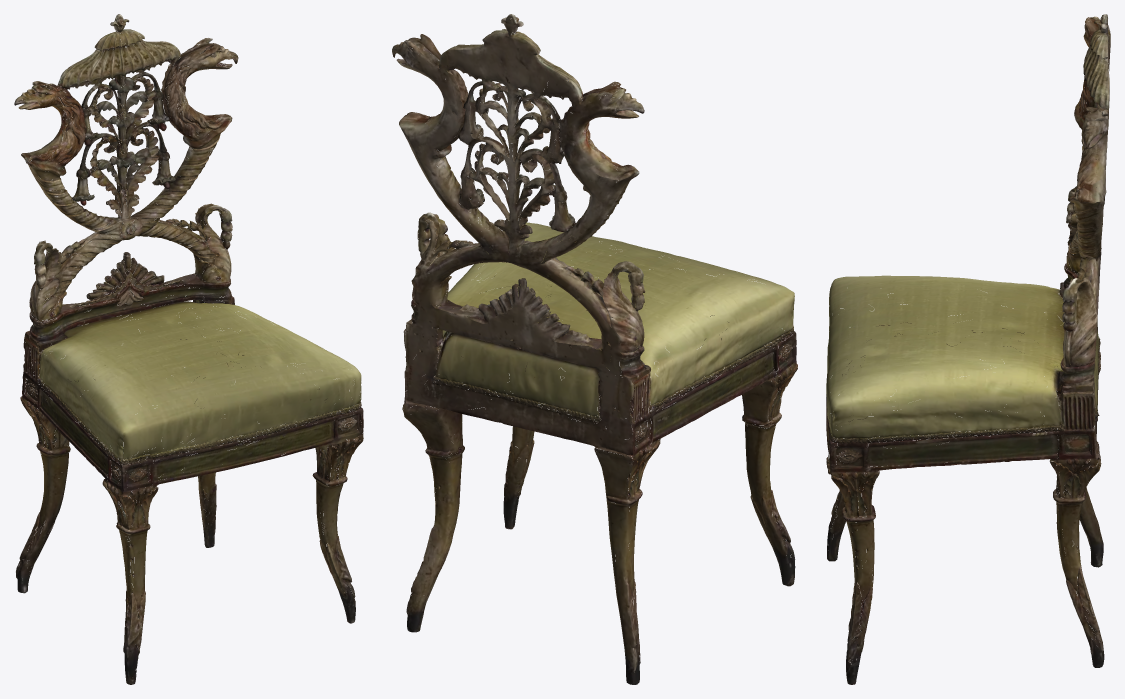
The model's file is side_chair-transformed.glb.
3 renders of one model, left to right at view 1: azimuth 30°, elevation 25°; view 2: azimuth 150°, elevation 25°; view 3: azimuth 270°, elevation 25°, orthographic. The views are drawn at different scales.
Parts seen in each view (by area): view 1: Object_4, Object_5; view 2: Object_4, Object_5; view 3: Object_4, Object_5.
Part boxes in pixels (left/top/right/bottom): Object_4: left=14, top=15, right=363, bottom=684; Object_5: left=16, top=14, right=363, bottom=671; Object_4: left=392, top=15, right=797, bottom=684; Object_5: left=399, top=14, right=797, bottom=664; Object_4: left=826, top=15, right=1110, bottom=684; Object_5: left=826, top=14, right=1110, bottom=665.
Size of the model in its own units: 0.6347 by 1.37 by 0.5818.
Materials: 1 (1 with a texture image).
